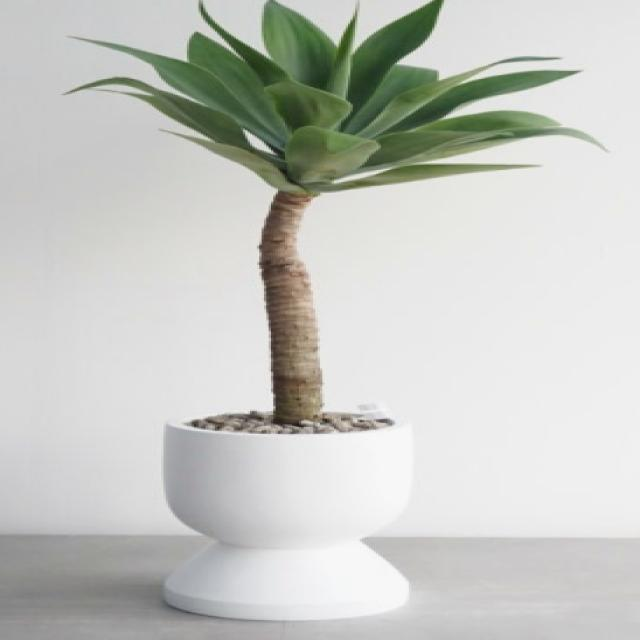Plant Pot: (131, 412, 471, 634)
